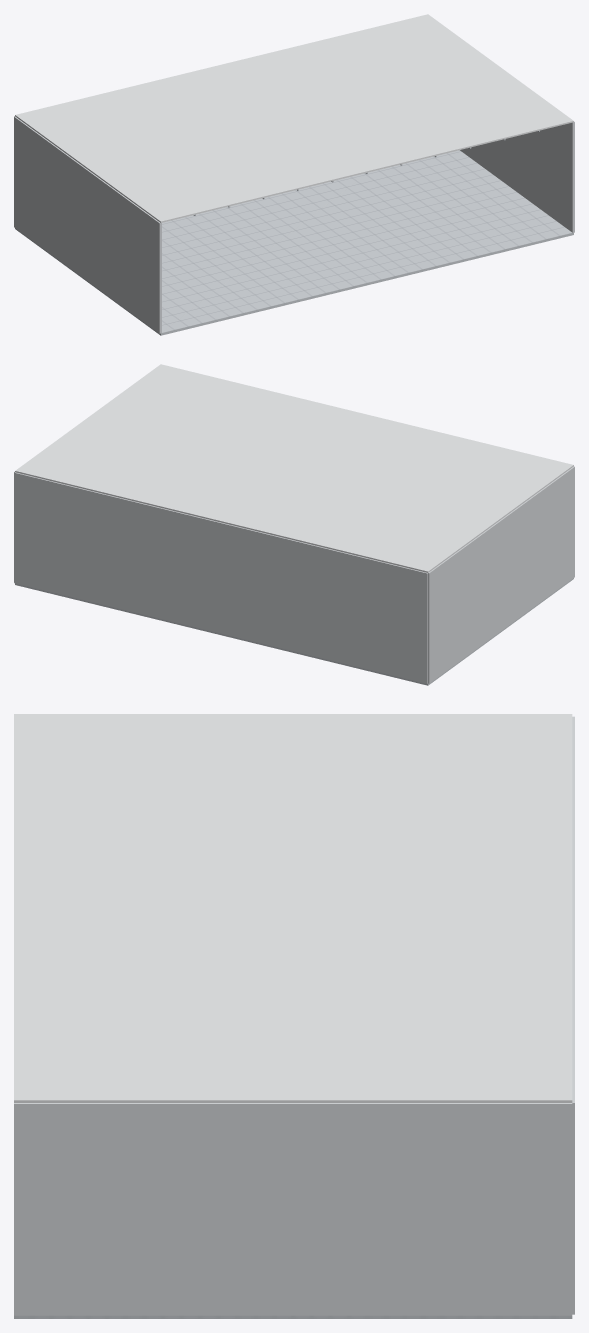
The model's file is cleanroomBay.glb.
The picture shows the model from 3 angles, top to bottom: view 1: azimuth 30°, elevation 25°; view 2: azimuth 150°, elevation 25°; view 3: azimuth 270°, elevation 25°; orthographic projection. The views are drawn at different scales.
Visible parts, largest first — view 1: ceiling, floor, wallL, wallR; view 2: ceiling, wallBack, wallL, floor; view 3: ceiling, wallR, floor, wallBack.
Part boxes in pixels (box(x1,y1,x2,y2)): ceiling: box(15, 14, 573, 222); floor: box(15, 150, 573, 335); wallL: box(14, 116, 161, 333); wallR: box(460, 121, 574, 232); ceiling: box(15, 364, 573, 572); wallBack: box(14, 472, 427, 683); wallL: box(428, 466, 574, 683); floor: box(15, 578, 573, 685); ceiling: box(14, 714, 572, 1102); wallR: box(14, 1103, 572, 1315); floor: box(14, 1315, 572, 1318); wallBack: box(572, 716, 574, 1314).
Bounding box in the file's own units: 18.1 × 4.76 × 11.05.
12 materials, 1 textured.
